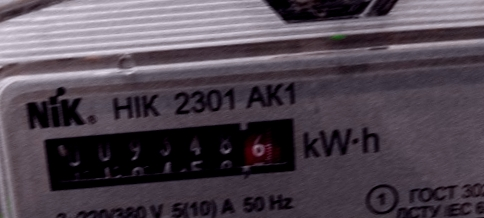0: (96, 137, 113, 162), (66, 140, 81, 167)
3: (157, 131, 173, 158)
4: (186, 129, 203, 157)
6: (249, 130, 268, 159)
8: (216, 127, 234, 156)
9: (126, 135, 143, 162)
screen: (34, 109, 308, 200)
